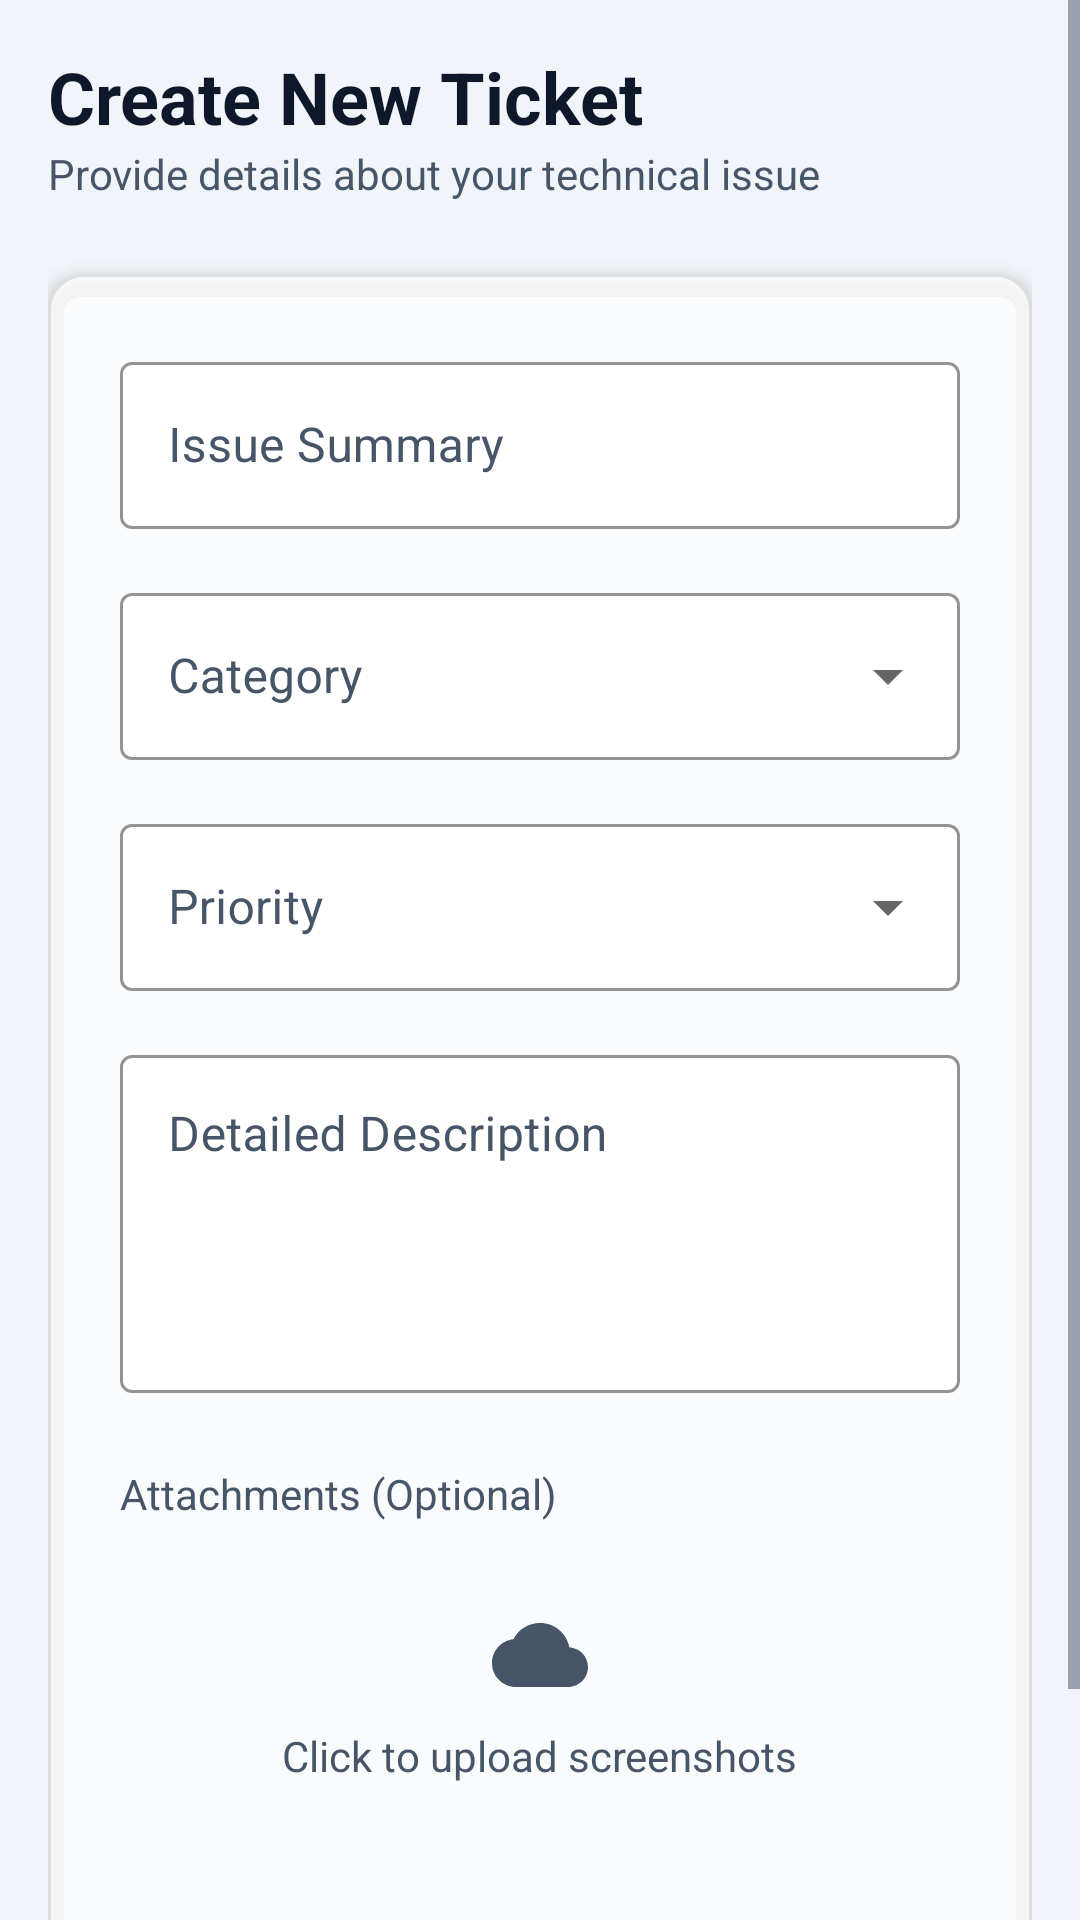

Icon click points for this 1080px×1920px phone screenshot, format [x,y]:
cloud: [540,1655]
